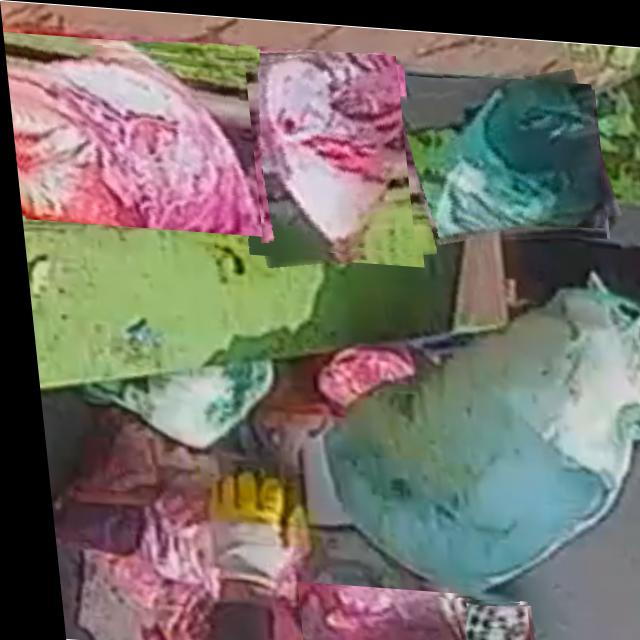general_trashbag: (430, 71, 600, 230), (437, 597, 515, 640)
other_trashbag: (16, 45, 258, 232), (230, 47, 400, 248), (287, 580, 449, 640)
